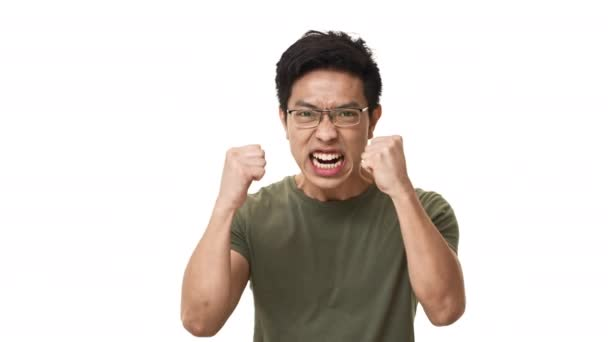anger: (283, 73, 361, 180)
